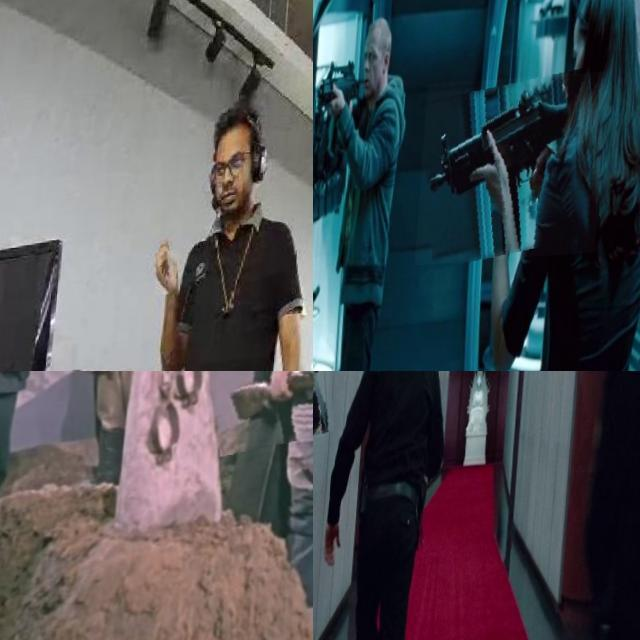-: (161, 254, 186, 300)
gun-knife-thesis - v11 Yolov5 augmented: (421, 80, 611, 272), (217, 371, 313, 454), (316, 50, 372, 130), (313, 371, 349, 485)
